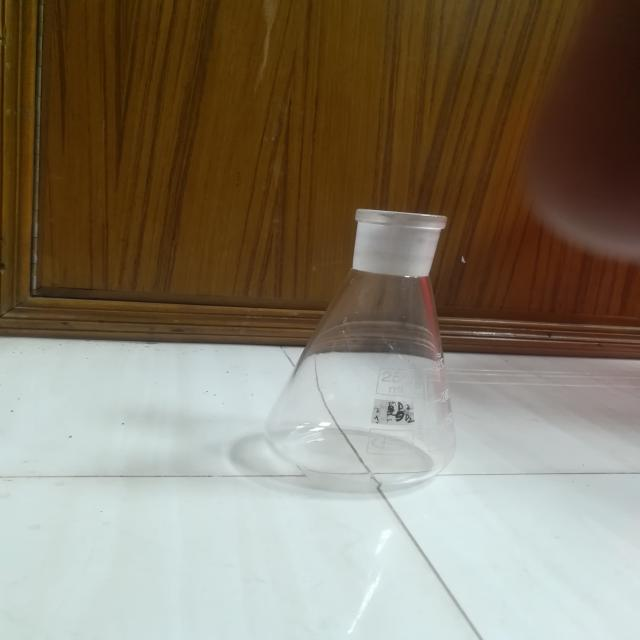Conical_Flask: (218, 160, 514, 521)
